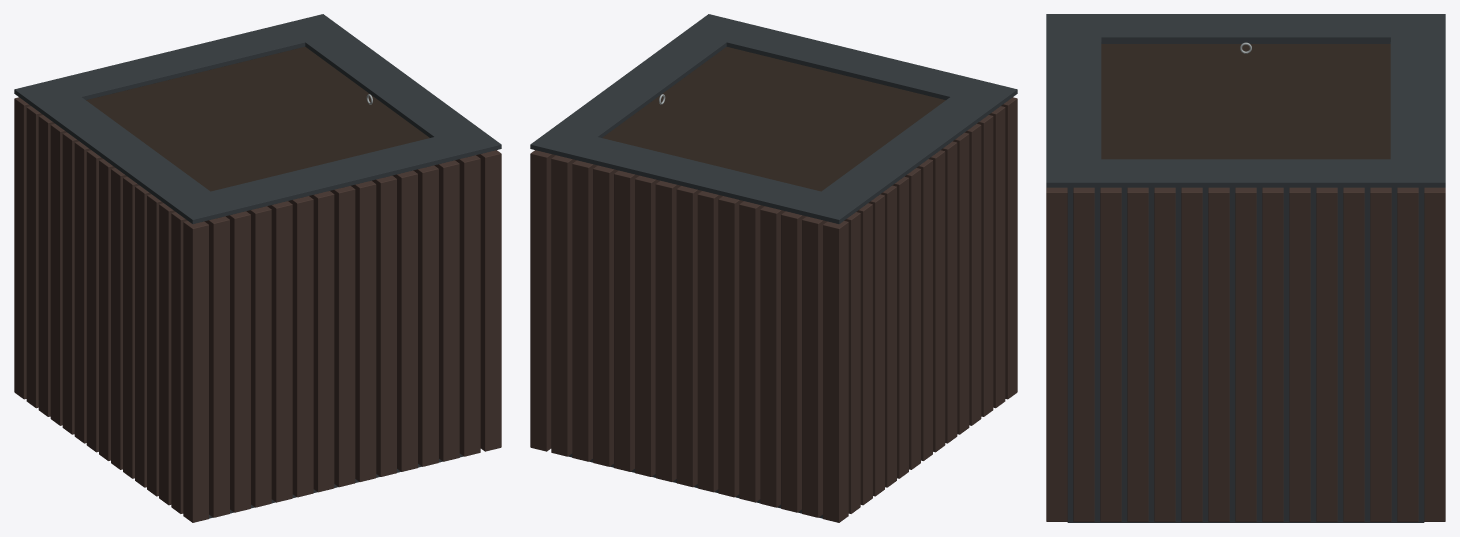
3 views of the same model, side by side, from view 1: azimuth 30°, elevation 25°; view 2: azimuth 150°, elevation 25°; view 3: azimuth 270°, elevation 25° (orthographic). The views are drawn at different scales.
Visible parts, largest first — view 1: K1_Q700; view 2: K1_Q700; view 3: K1_Q700.
Part boxes in pixels (<box>): K1_Q700: <box>14,14,501,522</box>; K1_Q700: <box>530,14,1017,522</box>; K1_Q700: <box>1046,14,1445,522</box>.
Size of the model in its own units: 0.725 by 0.71 by 0.725.
